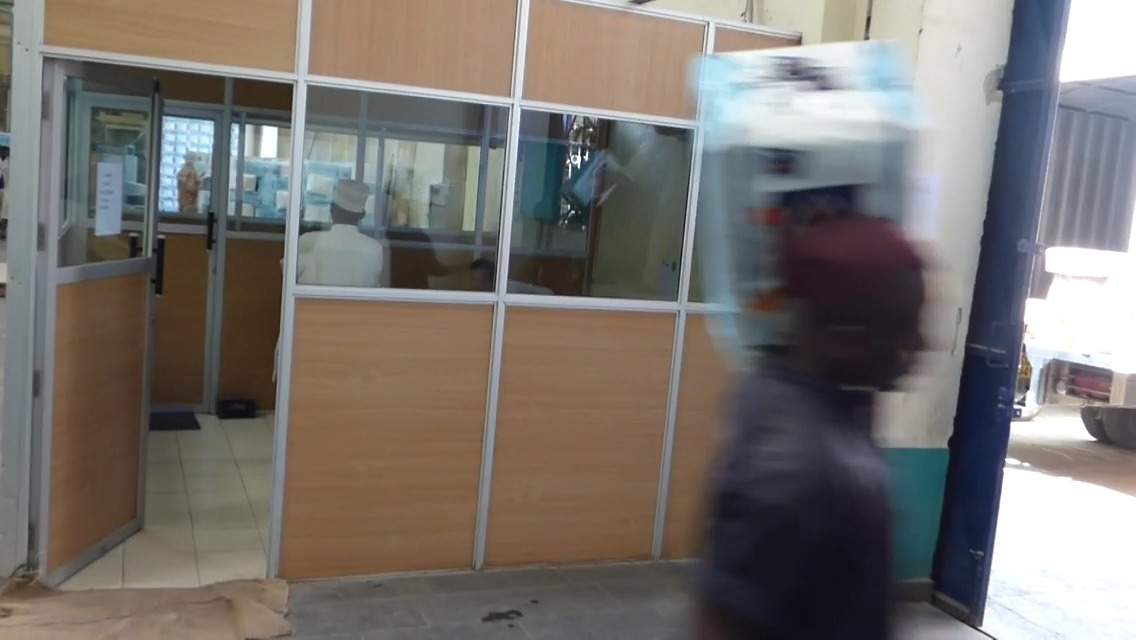wheat_flour_blue_label: (693, 44, 912, 371)
